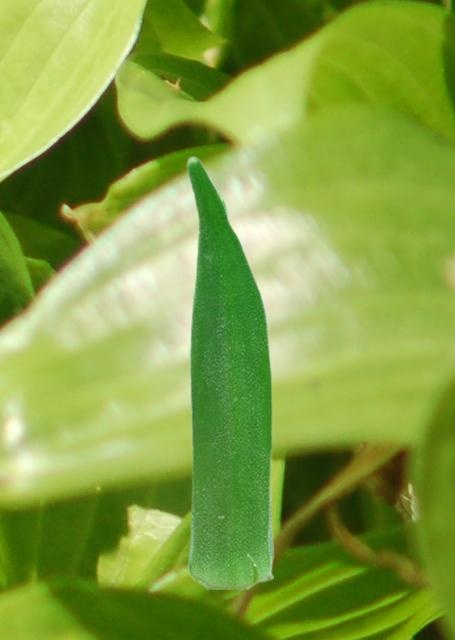okra: (186, 155, 272, 588)
